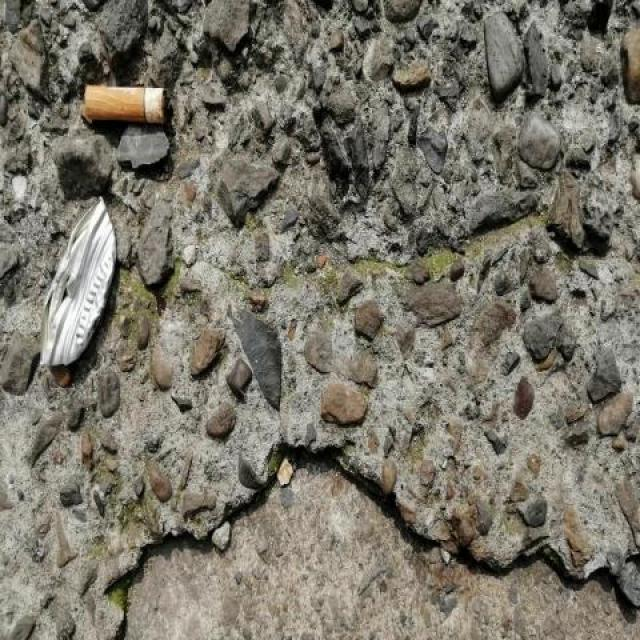non-organic waste: (79, 80, 178, 136)
